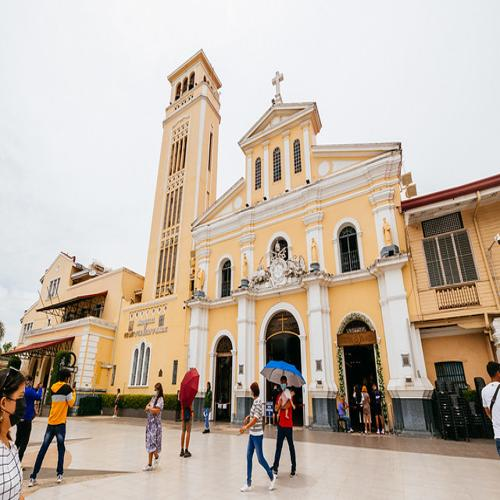Manaoag Church: (135, 41, 428, 433)
